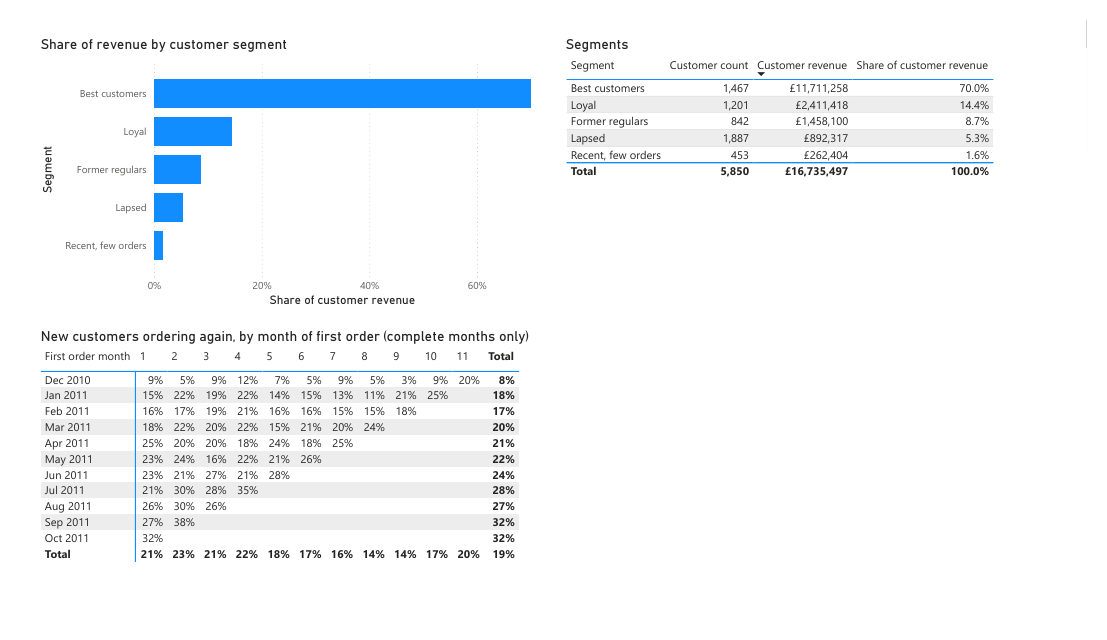

The page's visual inventory and layout, read from the dashboard file:
{"tool":"powerbi","page":{"name":"Customers","canvas":[1280,720],"ordinal":1},"visuals":[{"type":"clusteredBarChart","title":"Share of revenue by customer segment","fields":{"Category":["Customers.Segment"],"Y":["Customers.Share of customer revenue"]},"box":[20,20,610,330],"z":1},{"type":"tableEx","title":"Segments","fields":{"Values":["Customers.Segment","Customers.Customer count","Customers.Customer revenue","Customers.Share of customer revenue"]},"box":[650,20,610,330],"z":2},{"type":"pivotTable","title":"New customers ordering again, by month of first order (complete months only)","fields":{"Columns":["Cohorts.Months after first order"],"Rows":["Cohorts.First order month"],"Values":["Cohorts.Share ordering again"]},"box":[20,370,1240,330],"z":3}]}

Visuals, with their boxes in screenshot pixels (x1, y1, x2, y2), scaled from the page's 1280x720 canvas onto the 1107x640 screenshot:
"Share of revenue by customer segment" clusteredBarChart: box=[17, 18, 545, 311]
"Segments" tableEx: box=[562, 18, 1090, 311]
"New customers ordering again, by month of first order (complete months only)" pivotTable: box=[17, 329, 1090, 622]
